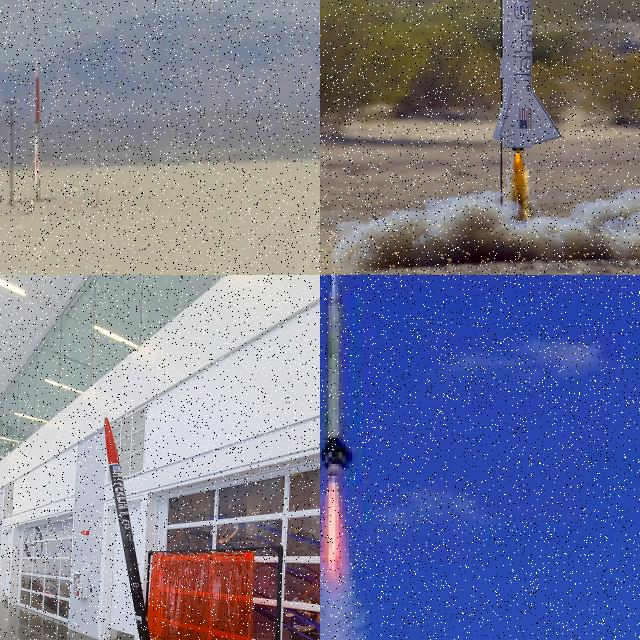Rocket: (490, 0, 565, 151), (104, 412, 151, 640), (320, 275, 355, 481), (32, 54, 42, 191)
